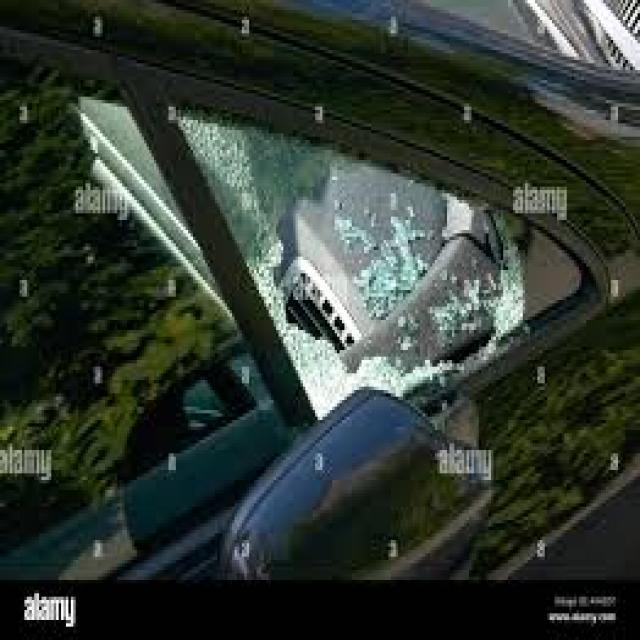damaged-window: (163, 80, 640, 428)
